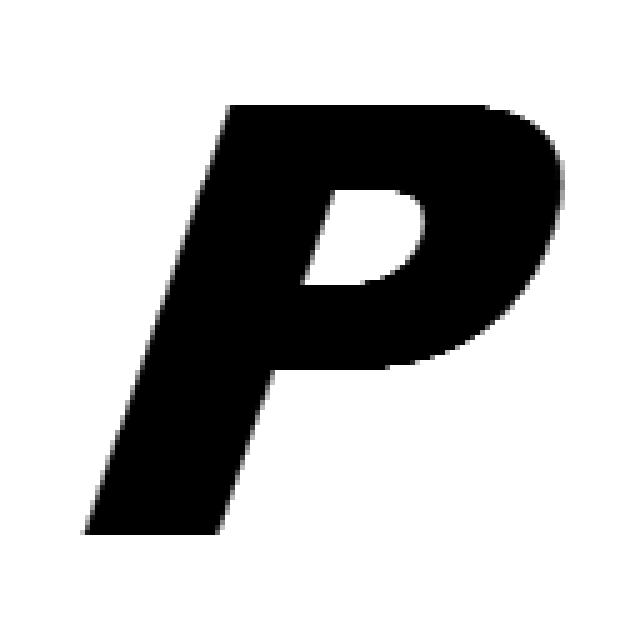P: (85, 105, 565, 540)
